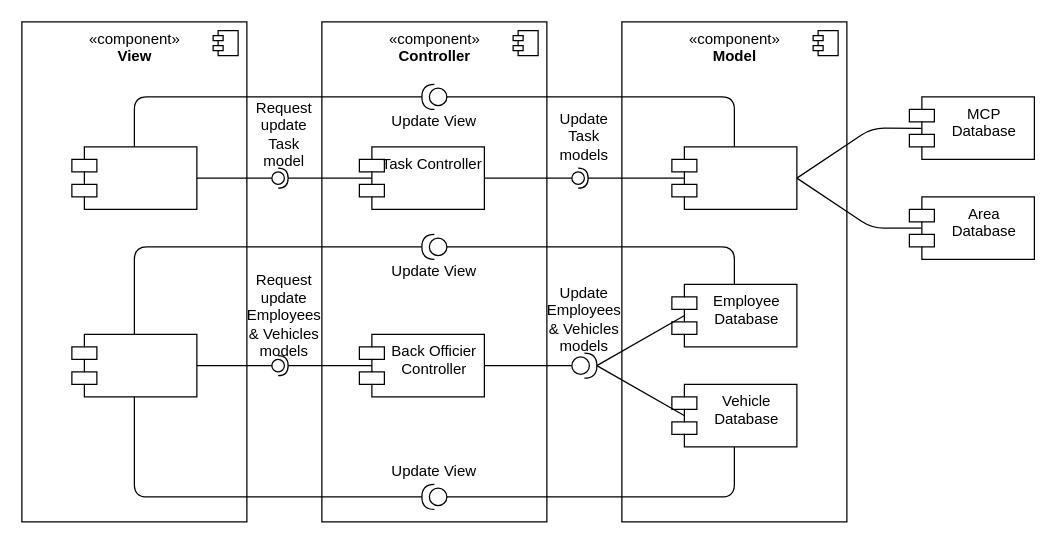
This 1056x544 diagram has some shape labels left out. The shapes that lost their labels are listed below. From the top down, each one's centre as x and y in pixels, then its label:
At point (134, 177): "Task Screen".
At point (734, 177): "Task Database".
At point (134, 365): "Back Officier Screen".
